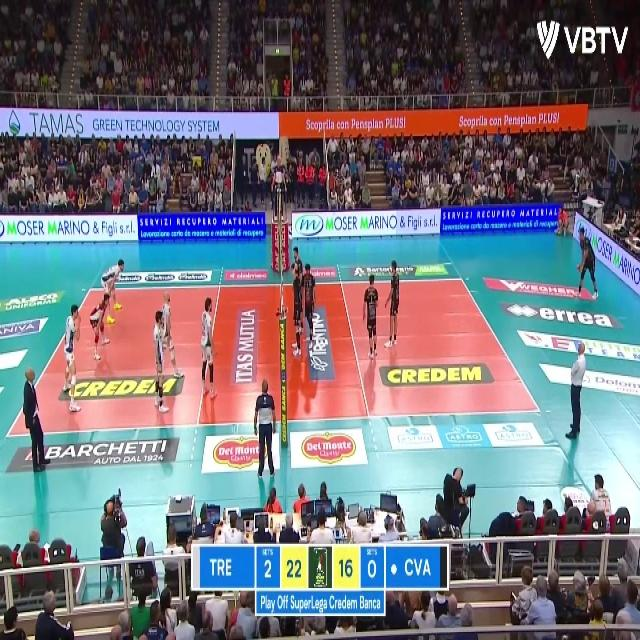volleyball court: (12, 275, 542, 432)
